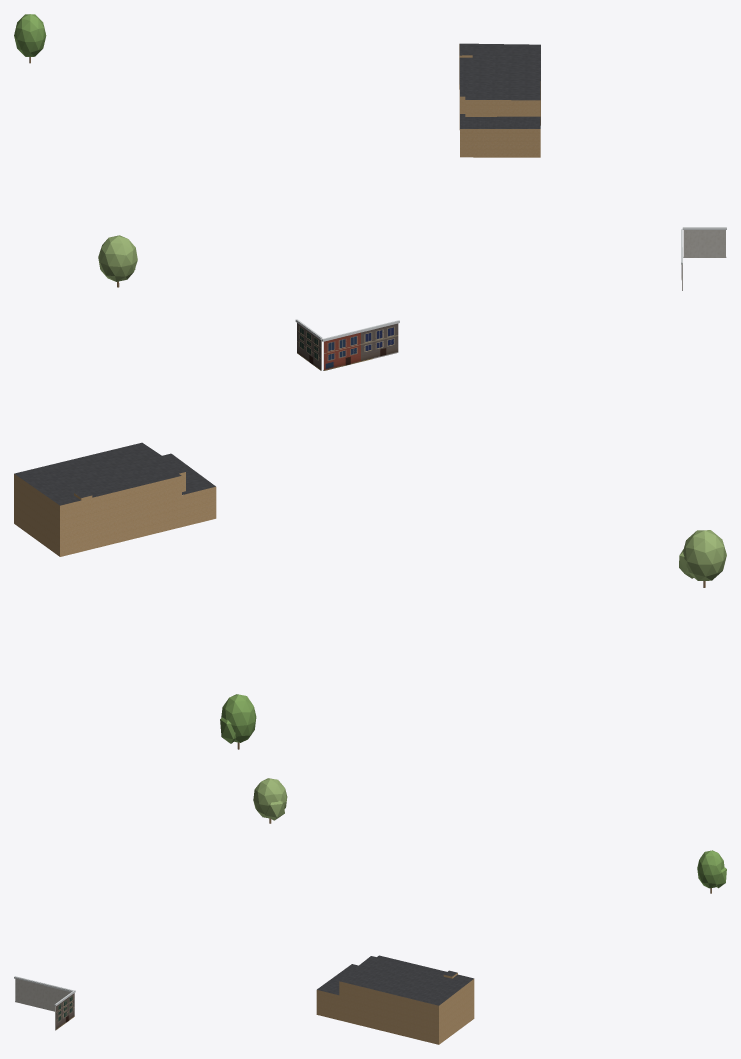
The picture shows the model from 3 angles, top to bottom: view 1: azimuth 30°, elevation 25°; view 2: azimuth 150°, elevation 25°; view 3: azimuth 270°, elevation 25°; orthographic projection. The views are drawn at different scales.
Visible parts, largest first — view 1: bldg_6004321707_roof, bldg_6004321707, tree_4160, bldg_6004321708_facade2, tree_4158; view 2: bldg_6004321707, bldg_6004321707_roof, bldg_6004321708_facade1, tree_4160, tree_4158, bldg_6004321708_facade2; view 3: bldg_6004321707, bldg_6004321707_roof, bldg_6004321708_facade1, tree_4160, tree_4158, bldg_6004321708_facade2.
Part boxes in pixels (left/top/right/bottom): bldg_6004321707_roof: left=459, top=43, right=540, bottom=128; bldg_6004321707: left=459, top=44, right=540, bottom=157; tree_4160: left=98, top=235, right=137, bottom=287; bldg_6004321708_facade2: left=682, top=227, right=726, bottom=257; tree_4158: left=14, top=14, right=46, bottom=63; bldg_6004321707: left=14, top=472, right=216, bottom=556; bldg_6004321707_roof: left=14, top=442, right=215, bottom=505; bldg_6004321708_facade1: left=322, top=320, right=399, bottom=370; tree_4160: left=679, top=530, right=726, bottom=587; tree_4158: left=220, top=694, right=256, bottom=749; bldg_6004321708_facade2: left=295, top=319, right=322, bottom=370; bldg_6004321707: left=316, top=973, right=474, bottom=1044; bldg_6004321707_roof: left=317, top=955, right=473, bottom=1005; bldg_6004321708_facade1: left=14, top=976, right=73, bottom=1011; tree_4160: left=253, top=778, right=287, bottom=823; tree_4158: left=697, top=850, right=726, bottom=893; bldg_6004321708_facade2: left=54, top=990, right=75, bottom=1030.
Bounding box in the file's own units: 114 × 10.28 × 149.
Materials: 7 (4 with a texture image).
